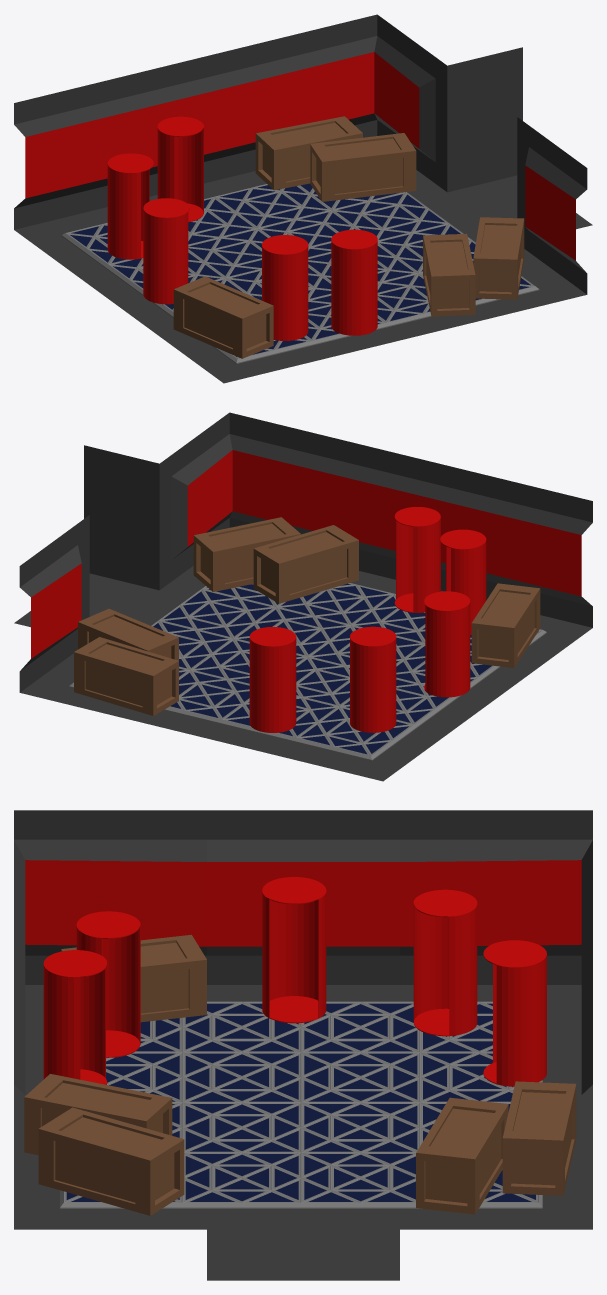
The picture shows the model from 3 angles, top to bottom: view 1: azimuth 30°, elevation 25°; view 2: azimuth 150°, elevation 25°; view 3: azimuth 270°, elevation 25°; orthographic projection. The views are drawn at different scales.
Visible parts, largest first — view 1: RightShip1-col, Plane.005, Lootbox.003-col, Lootbox.005-col, Spawn Pod.002-col, Spawn Pod.004-col, Spawn Pod.003-col, Lootbox.004-col, Spawn Pod.005-col, Spawn Pod.006-col, Lootbox.002-col, Lootbox.001-col; view 2: RightShip1-col, Plane.005, Lootbox.002-col, Lootbox.004-col, Spawn Pod.006-col, Spawn Pod.005-col, Spawn Pod.004-col, Lootbox.005-col, Lootbox.001-col, Spawn Pod.002-col, Spawn Pod.003-col, Lootbox.003-col; view 3: RightShip1-col, Plane.005, Lootbox.001-col, Spawn Pod.004-col, Spawn Pod.005-col, Lootbox.003-col, Spawn Pod.002-col, Spawn Pod.006-col, Lootbox.004-col, Spawn Pod.003-col, Lootbox.002-col, Lootbox.005-col.
Part boxes in pixels (box(x1,y1,x2,y2)): RightShip1-col: box(14, 14, 592, 383); Plane.005: box(61, 183, 539, 363); Lootbox.003-col: box(310, 133, 416, 201); Lootbox.005-col: box(173, 276, 273, 358); Spawn Pod.002-col: box(331, 229, 377, 335); Spawn Pod.004-col: box(143, 198, 189, 304); Spawn Pod.003-col: box(262, 235, 308, 340); Lootbox.004-col: box(255, 116, 362, 190); Spawn Pod.005-col: box(107, 153, 153, 259); Spawn Pod.006-col: box(157, 116, 203, 222); Lootbox.002-col: box(423, 233, 475, 316); Lootbox.001-col: box(473, 217, 524, 299); RightShip1-col: box(14, 412, 592, 781); Plane.005: box(69, 583, 546, 760); Lootbox.002-col: box(253, 525, 358, 603); Lootbox.004-col: box(74, 637, 178, 715); Spawn Pod.006-col: box(249, 627, 296, 732); Spawn Pod.005-col: box(350, 626, 396, 732); Spawn Pod.004-col: box(424, 591, 470, 697); Lootbox.005-col: box(471, 583, 540, 667); Lootbox.001-col: box(193, 517, 300, 591); Spawn Pod.002-col: box(394, 507, 440, 612); Spawn Pod.003-col: box(440, 529, 486, 634); Lootbox.003-col: box(78, 608, 178, 660); RightShip1-col: box(14, 810, 592, 1280); Plane.005: box(60, 1001, 542, 1208); Lootbox.001-col: box(38, 1107, 184, 1215); Spawn Pod.004-col: box(262, 877, 326, 1023); Spawn Pod.005-col: box(413, 889, 477, 1036); Lootbox.003-col: box(416, 1097, 508, 1214); Spawn Pod.002-col: box(43, 950, 107, 1084); Spawn Pod.006-col: box(483, 940, 546, 1086); Lootbox.004-col: box(502, 1081, 576, 1195); Spawn Pod.003-col: box(76, 911, 140, 1057); Lootbox.002-col: box(24, 1074, 172, 1155); Lootbox.005-col: box(61, 934, 206, 1022).
Bounding box in the file's own units: 14.5 × 4 × 12.
